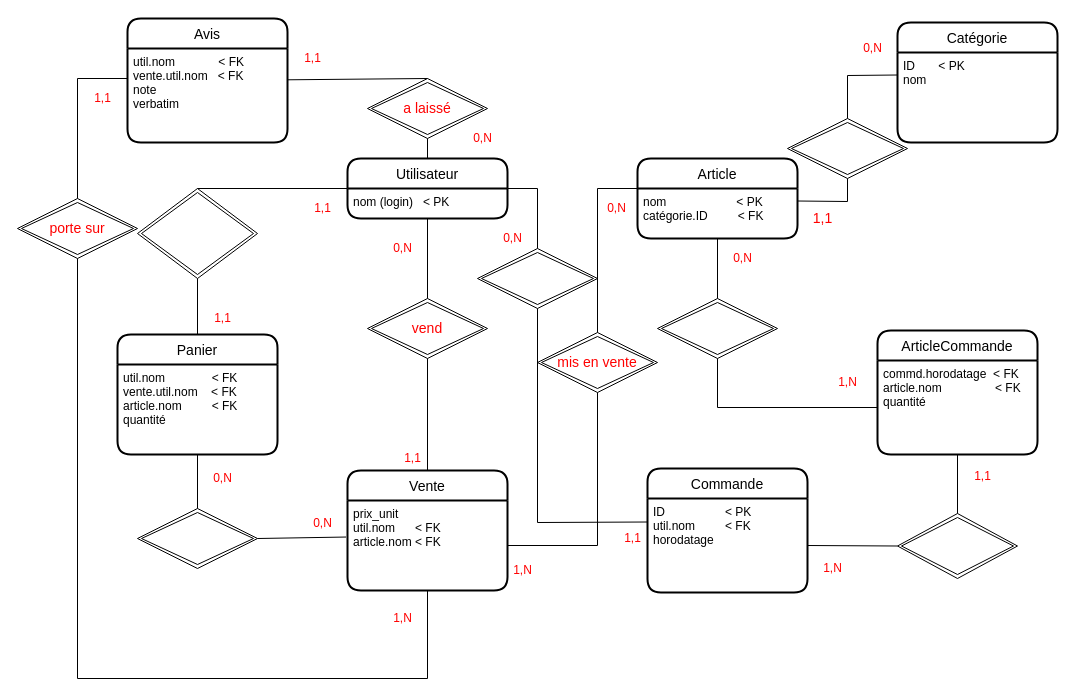
The diagram is 1076 pixels wide and 697 high, and some of its shapes have lost their labels. The centre of each missing label's shape, as x and y in pixels:
appartient à: point 957,545
classé sous: point 847,148
correspond à: point 197,538
effectue: point 537,278
possède: point 197,233
se trouve dans: point 717,328
